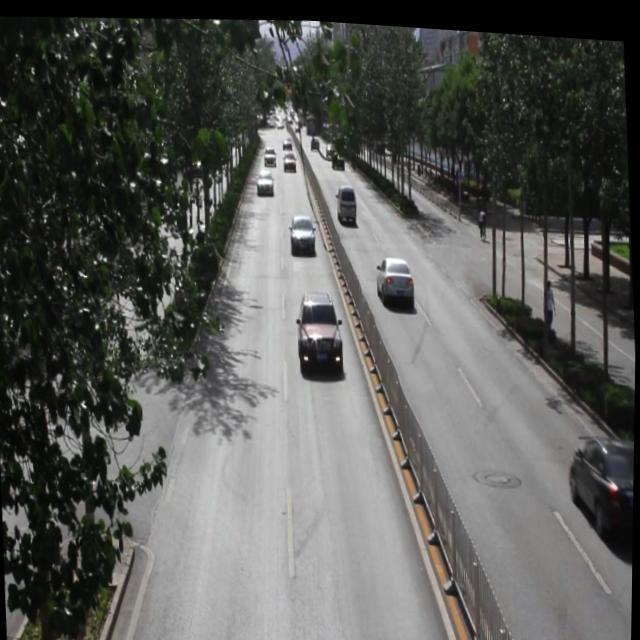car: (565, 423, 635, 533), (294, 284, 343, 366), (376, 249, 415, 305), (288, 209, 316, 254), (256, 165, 276, 192), (331, 142, 345, 166), (282, 145, 296, 169), (263, 142, 278, 164), (325, 135, 337, 156), (308, 128, 320, 148), (281, 131, 294, 148)
truck: (334, 178, 358, 219)
